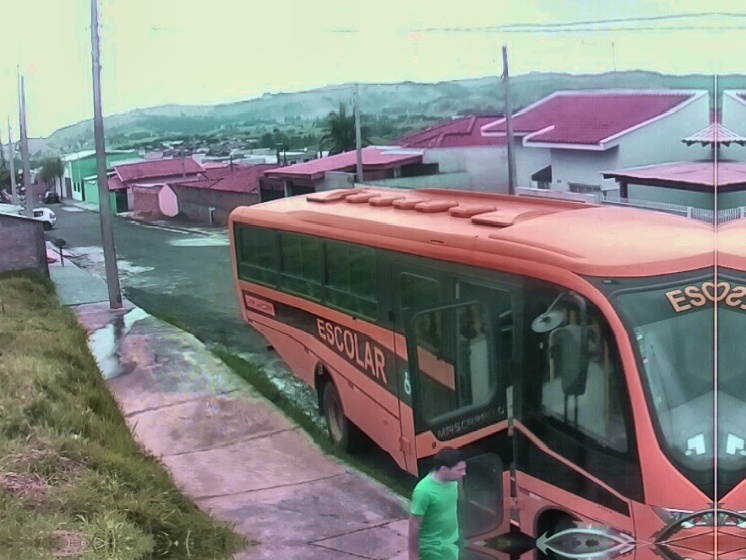person: (404, 446, 469, 560)
